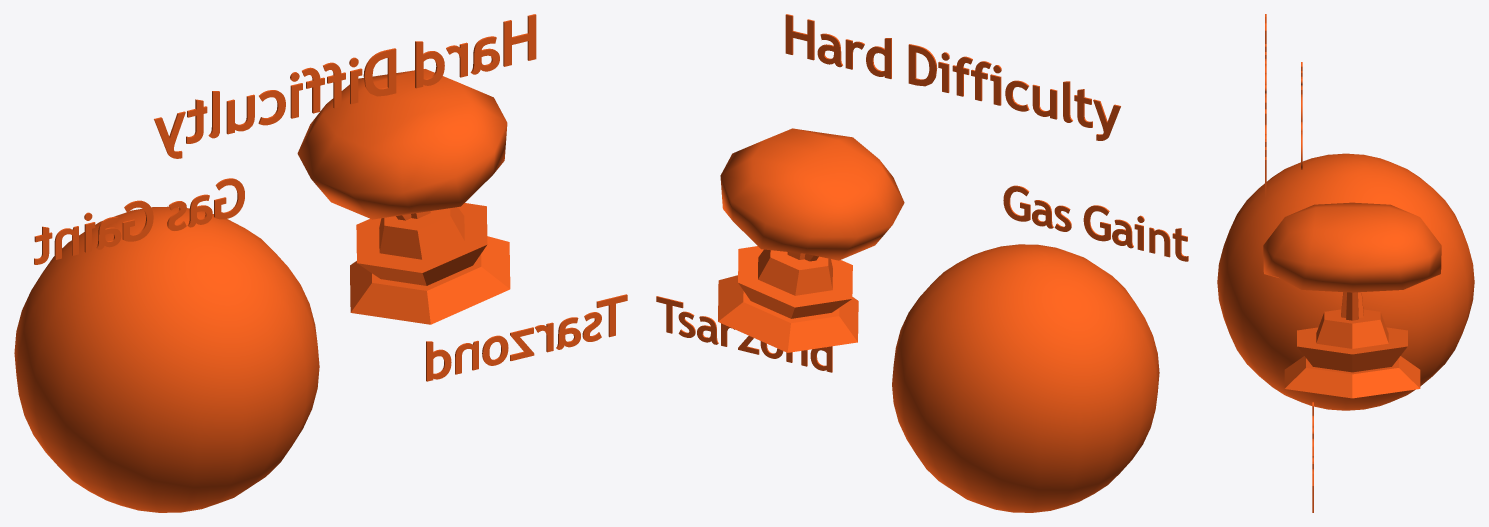
Rendered from AST_title_hardMode.fbx.
3 views of the same model, side by side, from view 1: azimuth 30°, elevation 25°; view 2: azimuth 150°, elevation 25°; view 3: azimuth 270°, elevation 25° (orthographic). The views are drawn at different scales.
Visible parts, largest first — view 1: MSH_title_hardMode; view 2: MSH_title_hardMode; view 3: MSH_title_hardMode.
Part boxes in pixels (x1,y1,x2,y2): MSH_title_hardMode: (14, 14, 627, 512); MSH_title_hardMode: (656, 14, 1188, 512); MSH_title_hardMode: (1217, 14, 1474, 512).
Bounding box in the file's own units: 318 × 225 × 141.
